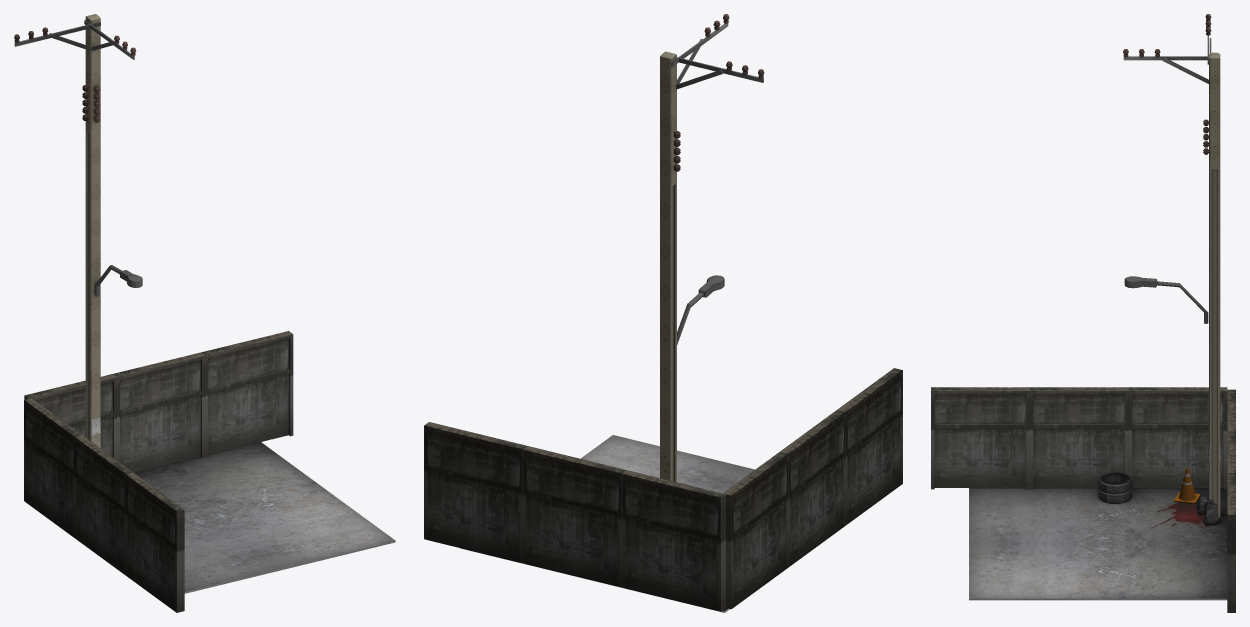
The model's file is backgroundMainMenu.fbx.
The picture shows the model from 3 angles, left to right: view 1: azimuth 30°, elevation 25°; view 2: azimuth 150°, elevation 25°; view 3: azimuth 270°, elevation 25°; orthographic projection. The views are drawn at different scales.
Visible parts, largest first — view 1: mainmanu_ground, swall86, swall85, electric_polecoss_1_5, swall91, swall90, swall89, swall84; view 2: swall84, swall85, swall86, electric_polecoss_1_5, swall89, swall91, swall90, mainmanu_ground; view 3: mainmanu_ground, swall91, swall90, swall89, electric_polecoss_1_5, swall86, car_tires6, og_cone19.
Boxes of the visible parts, x1,y1,x2,y2 form: mainmanu_ground: [135, 442, 395, 593]; swall86: [201, 331, 293, 456]; swall85: [113, 352, 205, 472]; electric_polecoss_1_5: [14, 14, 142, 447]; swall91: [126, 472, 184, 612]; swall90: [75, 435, 133, 575]; swall89: [24, 398, 82, 537]; swall84: [24, 374, 116, 459]; swall84: [622, 470, 725, 611]; swall85: [523, 446, 626, 587]; swall86: [424, 422, 527, 563]; electric_polecoss_1_5: [660, 14, 764, 482]; swall89: [723, 451, 788, 609]; swall91: [837, 368, 902, 525]; swall90: [780, 410, 845, 566]; mainmanu_ground: [460, 435, 754, 612]; mainmanu_ground: [969, 488, 1227, 600]; swall91: [931, 387, 1029, 489]; swall90: [1029, 387, 1128, 489]; swall89: [1128, 387, 1227, 489]; electric_polecoss_1_5: [1123, 14, 1220, 517]; swall86: [1227, 473, 1235, 612]; car_tires6: [1098, 472, 1131, 494]; og_cone19: [1174, 468, 1200, 503].
Size of the model in its own units: 12.26 by 19.46 by 11.56.
